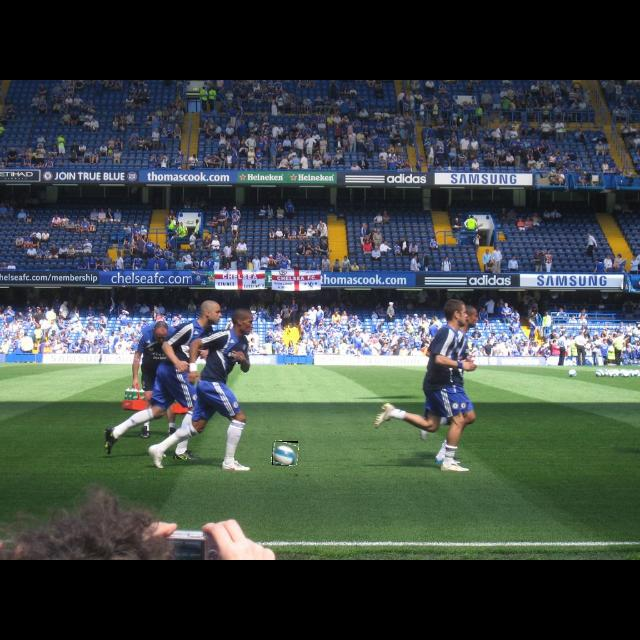Football: (272, 441, 298, 465)
